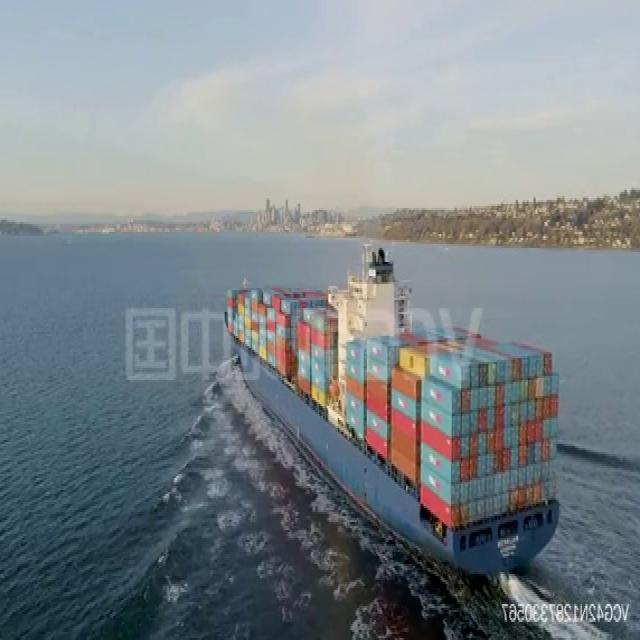cargoship: (223, 241, 566, 583)
